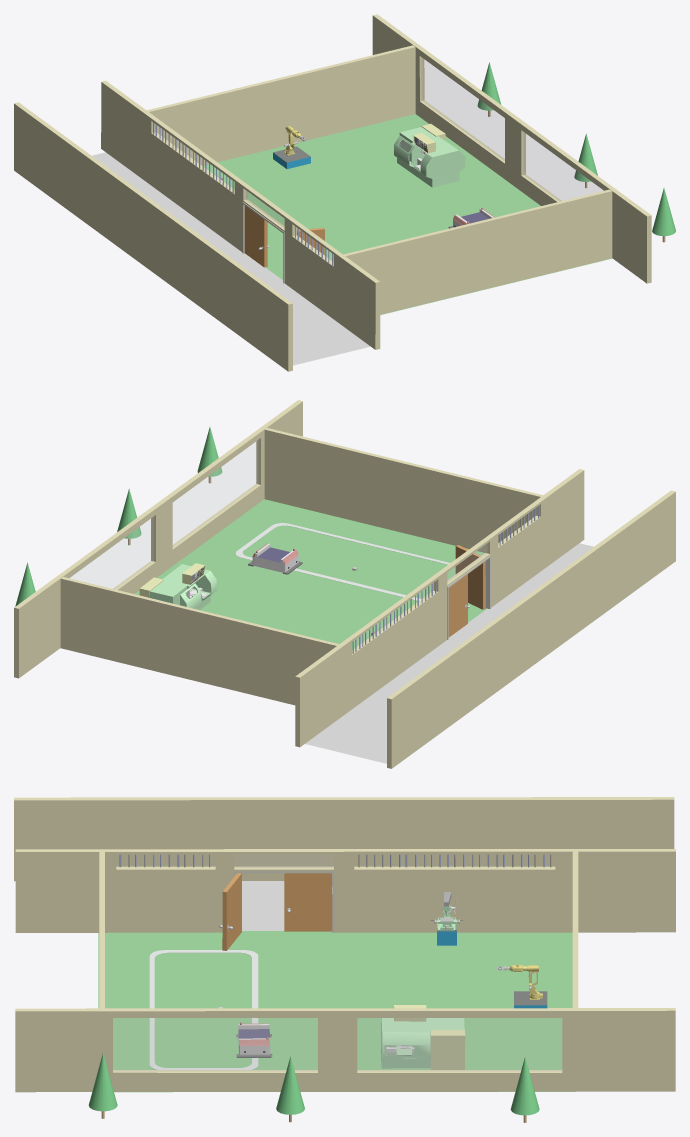
The model's file is lab.glb.
The picture shows the model from 3 angles, top to bottom: view 1: azimuth 30°, elevation 25°; view 2: azimuth 150°, elevation 25°; view 3: azimuth 270°, elevation 25°; orthographic projection. The views are drawn at different scales.
Visible parts, largest first — view 1: Shape_IndexedFaceSet.016, Shape_IndexedFaceSet.017, Shape_IndexedFaceSet.013, Shape_IndexedFaceSet.027, Shape_IndexedFaceSet.012, Shape_IndexedFaceSet.014, Shape_IndexedFaceSet.011, Shape_IndexedFaceSet.025, Shape_IndexedFaceSet.024, Shape_IndexedFaceSet.288, Shape_IndexedFaceSet.035, Shape_IndexedFaceSet.076 (+1 smaller); view 2: Shape_IndexedFaceSet.016, Shape_IndexedFaceSet.017, Shape_IndexedFaceSet.027, Shape_IndexedFaceSet.012, Shape_IndexedFaceSet.013, Shape_IndexedFaceSet.014, Shape_IndexedFaceSet.011, Shape_IndexedFaceSet.024, Shape_IndexedFaceSet.025, Shape_IndexedFaceSet.288, Shape_IndexedFaceSet.023, Shape_IndexedFaceSet.028 (+2 smaller); view 3: Shape_IndexedFaceSet.016, Shape_IndexedFaceSet.027, Shape_IndexedFaceSet.017, Shape_IndexedFaceSet.014, Shape_IndexedFaceSet.024, Shape_IndexedFaceSet.025, Shape_IndexedFaceSet.035, Shape_IndexedFaceSet.011, Shape_IndexedFaceSet.288, Shape_IndexedFaceSet.023, Shape_IndexedFaceSet.289, Shape_IndexedFaceSet.022 (+8 smaller).
Boxes of the visible parts, x1,y1,x2,y2 form: Shape_IndexedFaceSet.016: [204, 114, 612, 314]; Shape_IndexedFaceSet.017: [14, 102, 292, 371]; Shape_IndexedFaceSet.013: [343, 189, 612, 314]; Shape_IndexedFaceSet.027: [101, 80, 380, 349]; Shape_IndexedFaceSet.012: [147, 45, 415, 165]; Shape_IndexedFaceSet.014: [372, 14, 651, 283]; Shape_IndexedFaceSet.011: [92, 152, 370, 365]; Shape_IndexedFaceSet.025: [422, 58, 504, 160]; Shape_IndexedFaceSet.024: [524, 133, 602, 200]; Shape_IndexedFaceSet.288: [399, 127, 465, 178]; Shape_IndexedFaceSet.035: [244, 205, 267, 267]; Shape_IndexedFaceSet.076: [652, 188, 675, 236]; Shape_IndexedFaceSet.016: [134, 499, 486, 649]; Shape_IndexedFaceSet.017: [387, 490, 675, 768]; Shape_IndexedFaceSet.027: [295, 469, 584, 747]; Shape_IndexedFaceSet.012: [60, 577, 338, 705]; Shape_IndexedFaceSet.013: [264, 428, 542, 552]; Shape_IndexedFaceSet.014: [14, 400, 302, 678]; Shape_IndexedFaceSet.011: [305, 543, 593, 763]; Shape_IndexedFaceSet.024: [173, 441, 257, 545]; Shape_IndexedFaceSet.025: [71, 518, 152, 588]; Shape_IndexedFaceSet.288: [150, 564, 216, 605]; Shape_IndexedFaceSet.023: [235, 523, 449, 600]; Shape_IndexedFaceSet.028: [455, 545, 485, 609]; Shape_IndexedFaceSet.016: [98, 931, 575, 1092]; Shape_IndexedFaceSet.027: [15, 849, 675, 932]; Shape_IndexedFaceSet.017: [14, 797, 674, 881]; Shape_IndexedFaceSet.014: [15, 1008, 675, 1092]; Shape_IndexedFaceSet.024: [113, 1018, 317, 1070]; Shape_IndexedFaceSet.025: [358, 1018, 561, 1070]; Shape_IndexedFaceSet.035: [284, 873, 332, 931]; Shape_IndexedFaceSet.011: [242, 881, 332, 930]; Shape_IndexedFaceSet.288: [381, 1018, 464, 1058]; Shape_IndexedFaceSet.023: [149, 950, 258, 1069]; Shape_IndexedFaceSet.289: [430, 1030, 465, 1069]; Shape_IndexedFaceSet.022: [235, 855, 333, 867].
Bounding box in the file's own units: 264 × 41.37 × 297.
